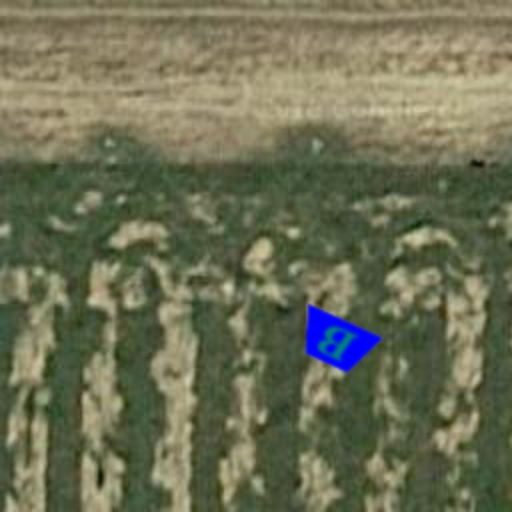trapezoid: (280, 286, 392, 398)
